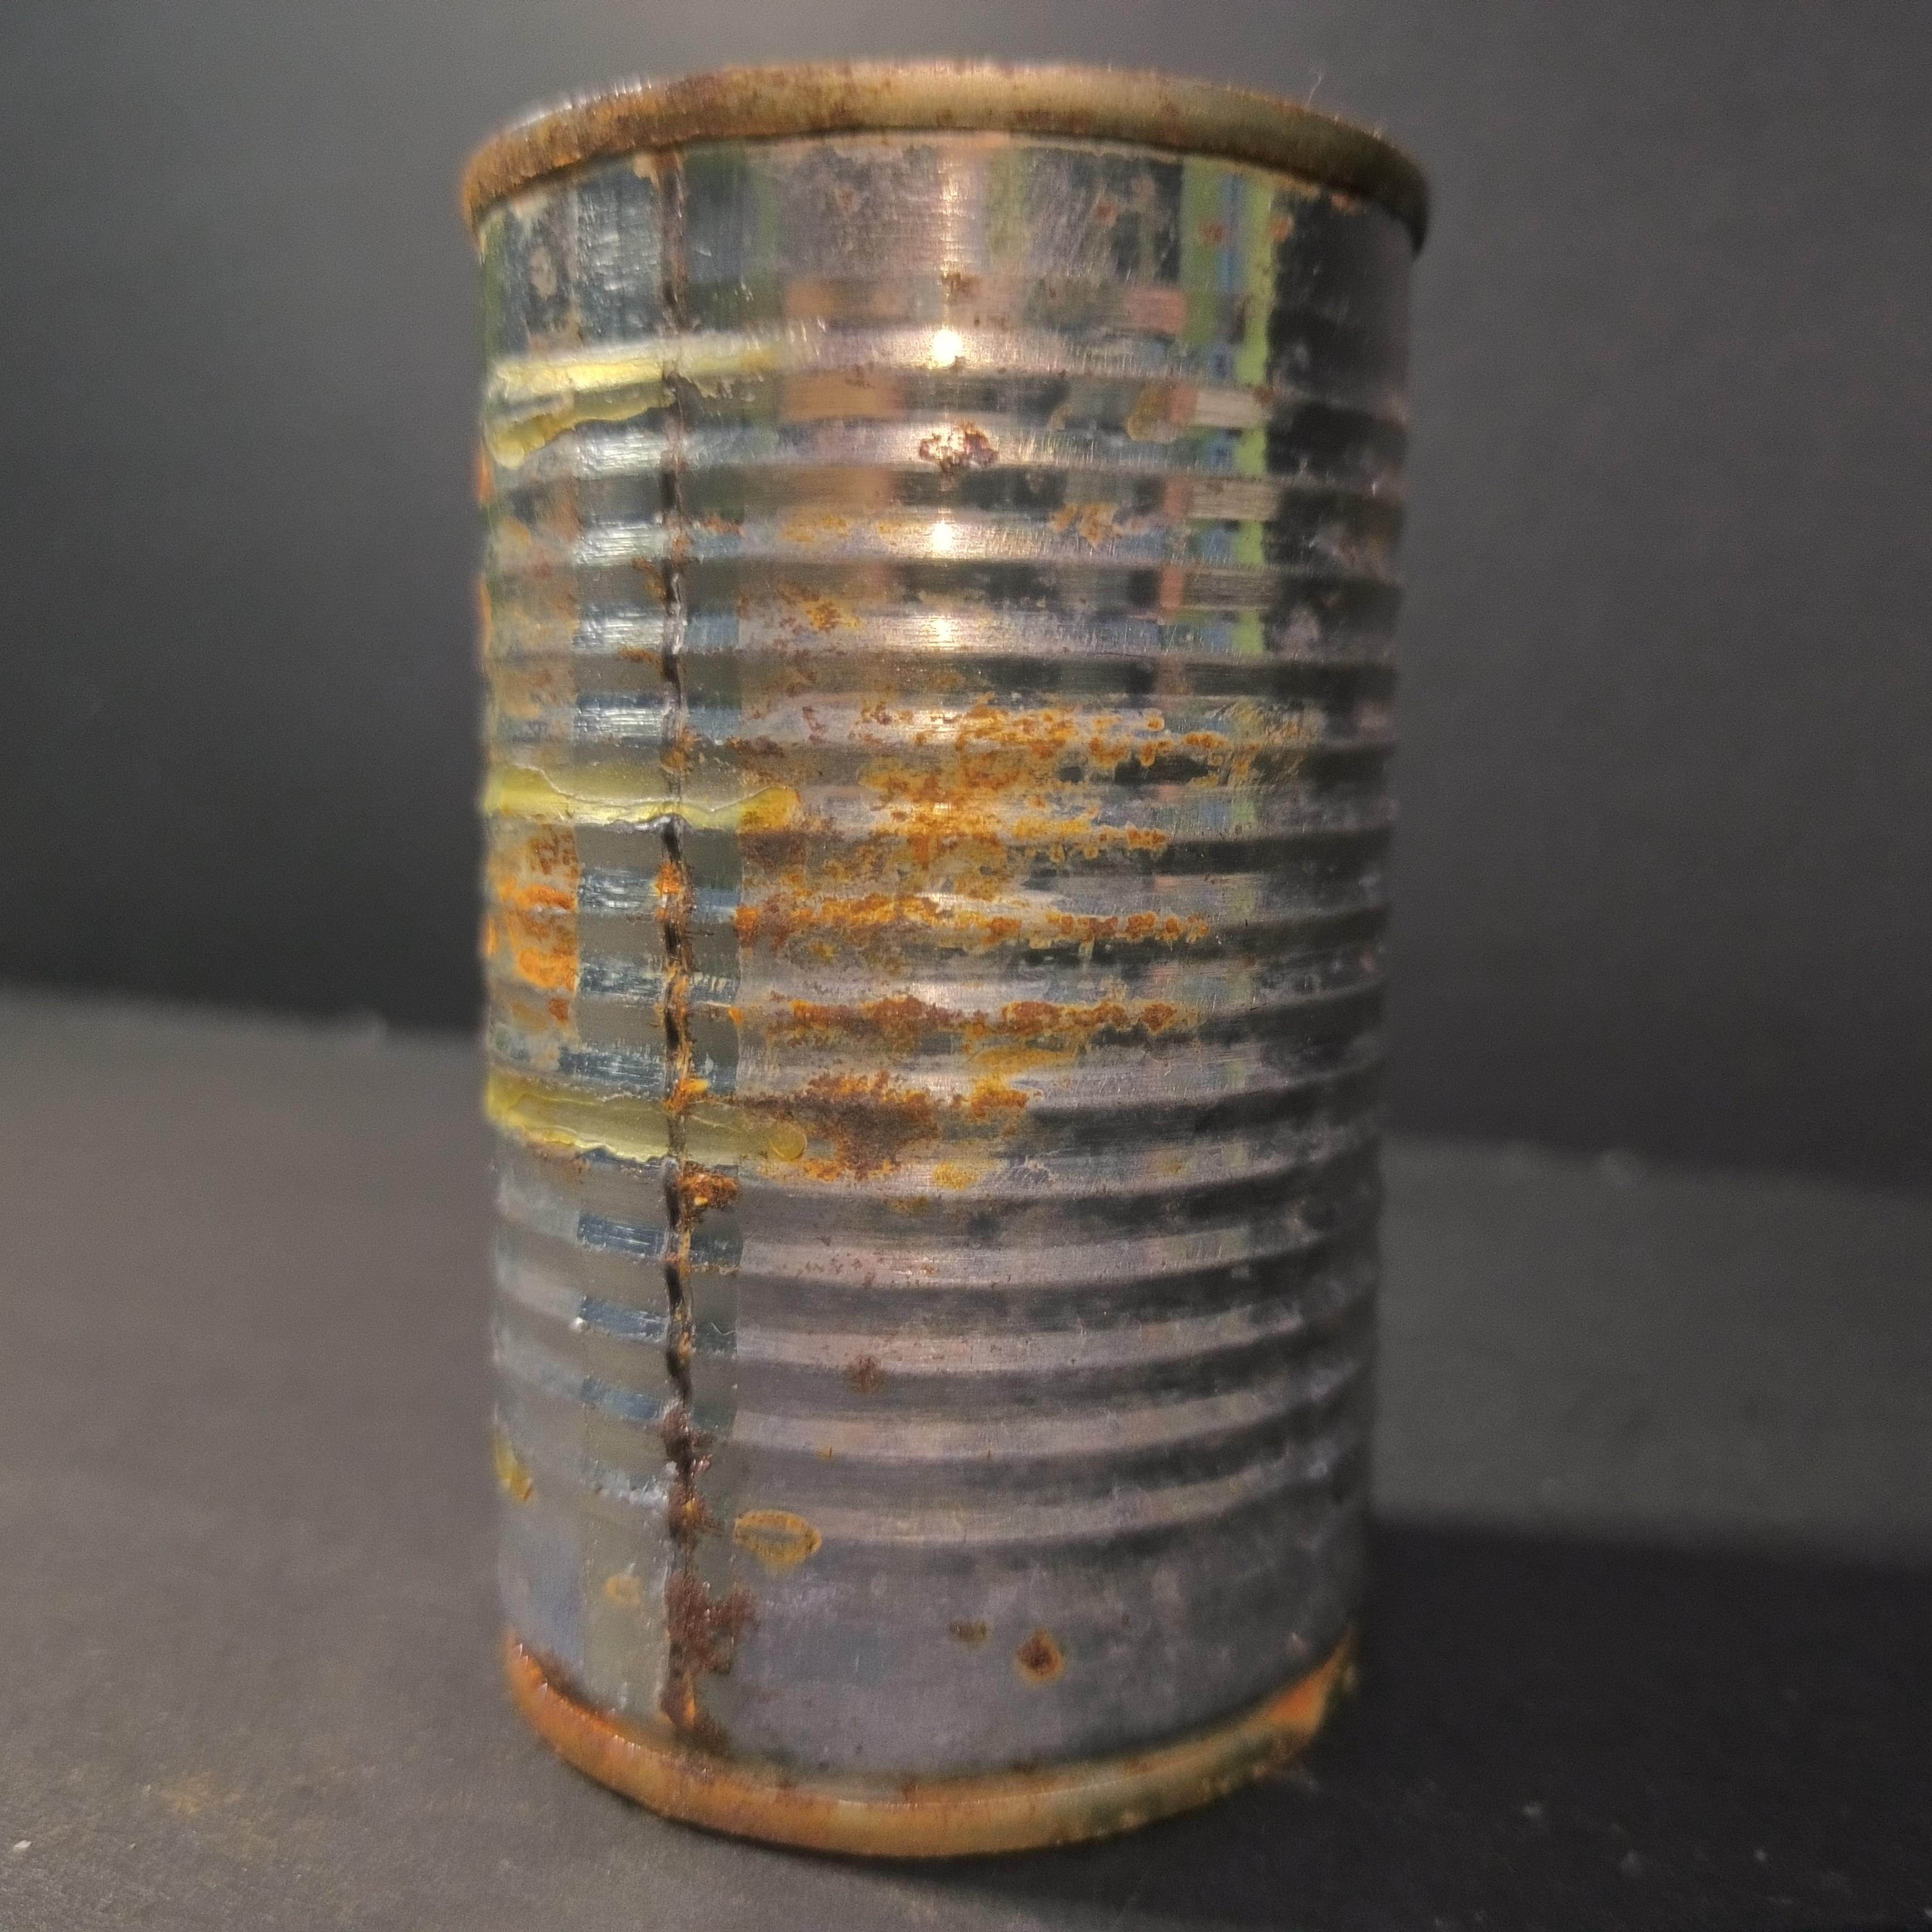Rusted: (428, 34, 1458, 1884)
